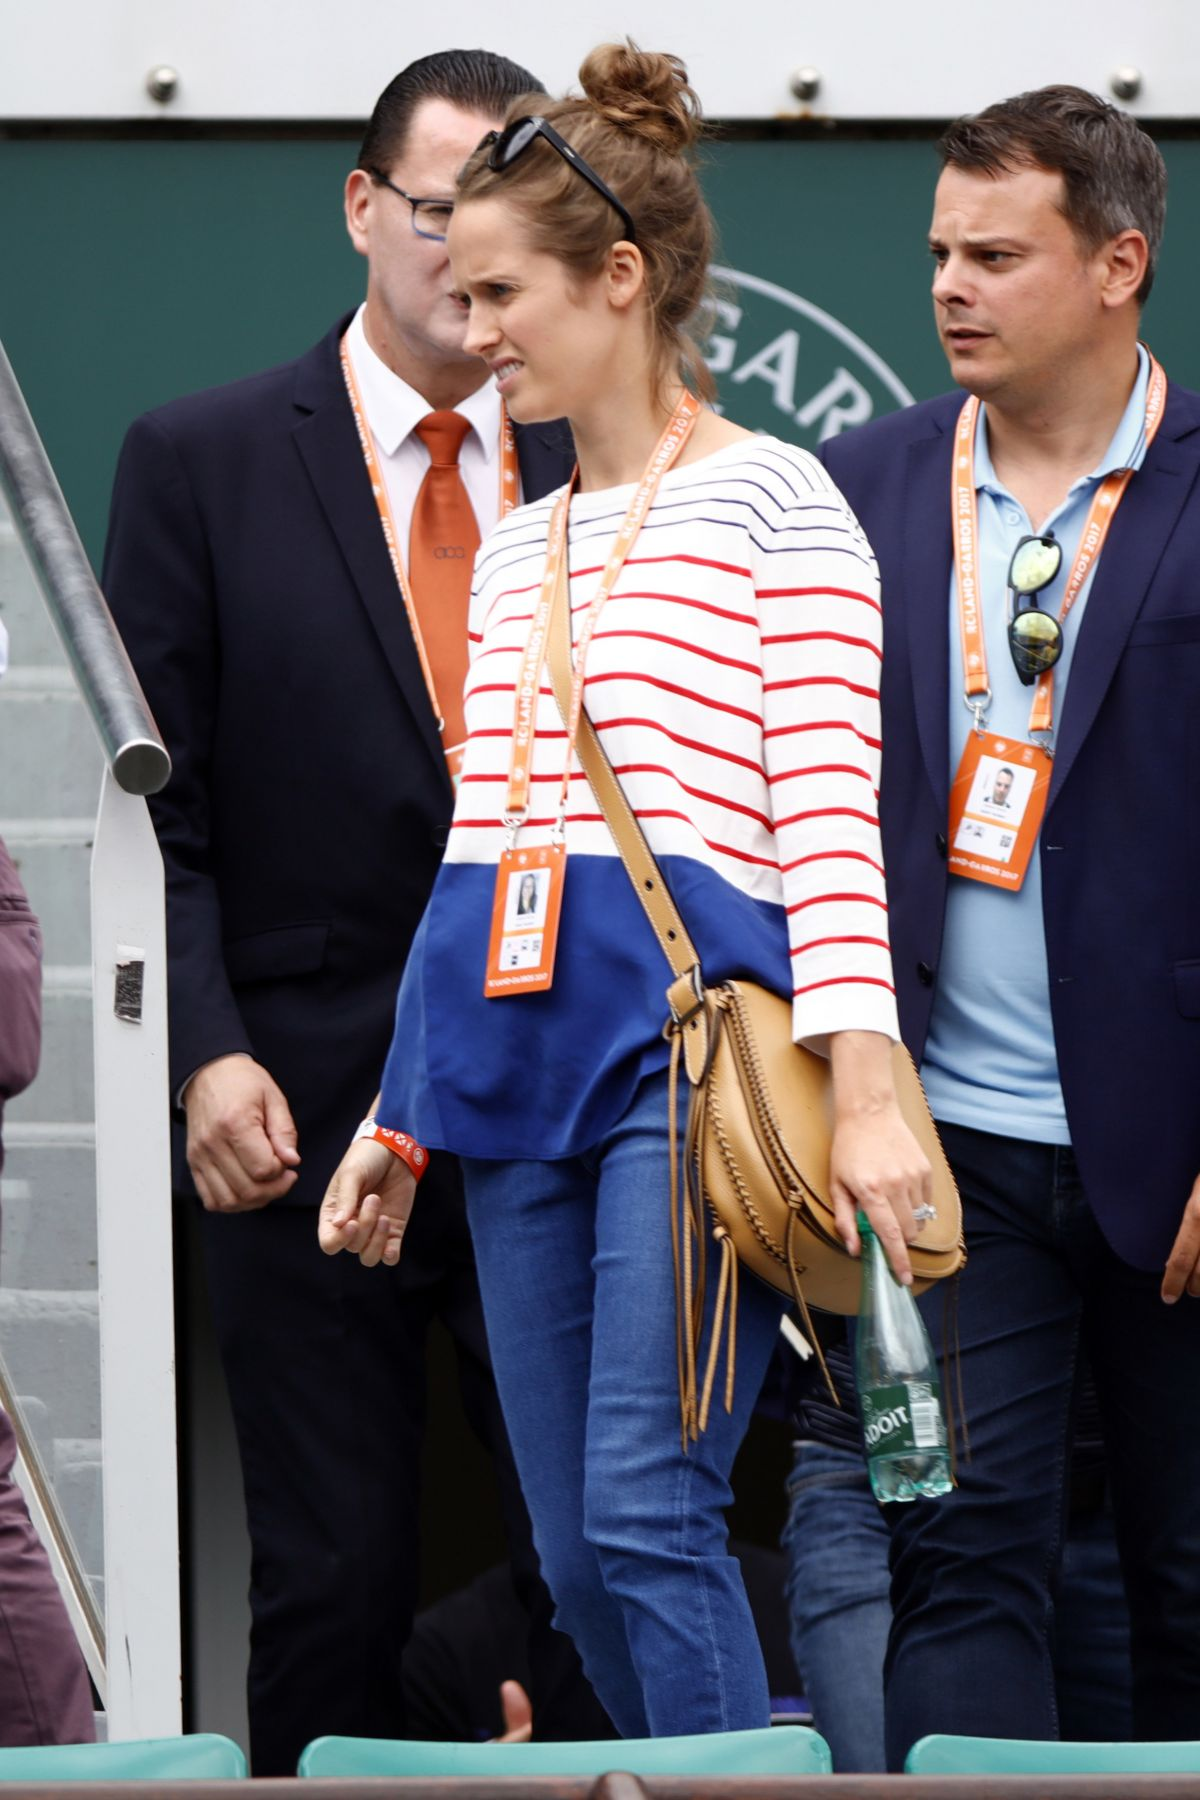Person: (448, 36, 903, 1728), (907, 83, 1200, 1730)
